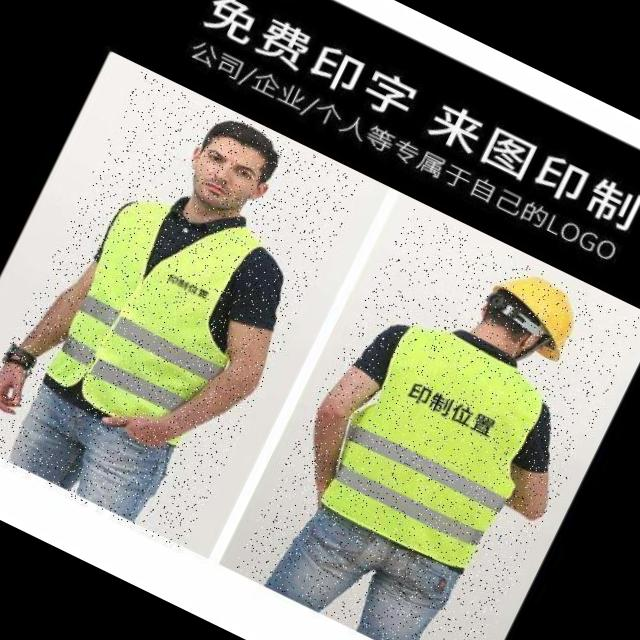hard_hat: (471, 256, 588, 365)
safety_vest: (28, 167, 289, 460), (305, 306, 562, 584)
vehicle: (232, 205, 640, 640), (0, 71, 363, 551)
